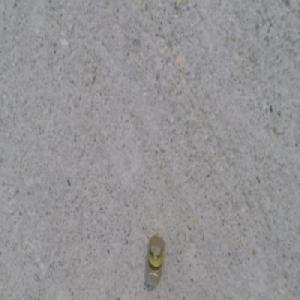BoltNutSet: (146, 236, 164, 285)
